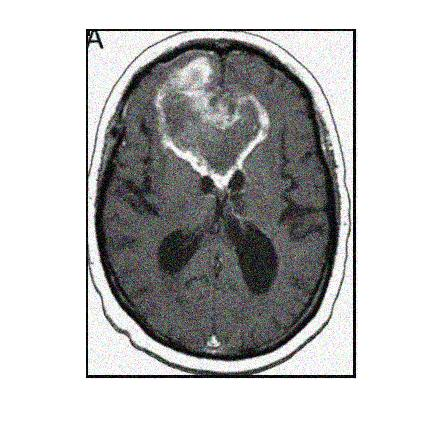Brain_Cancer: (155, 57, 271, 194)
